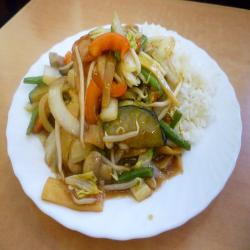rice: (143, 25, 222, 133)
